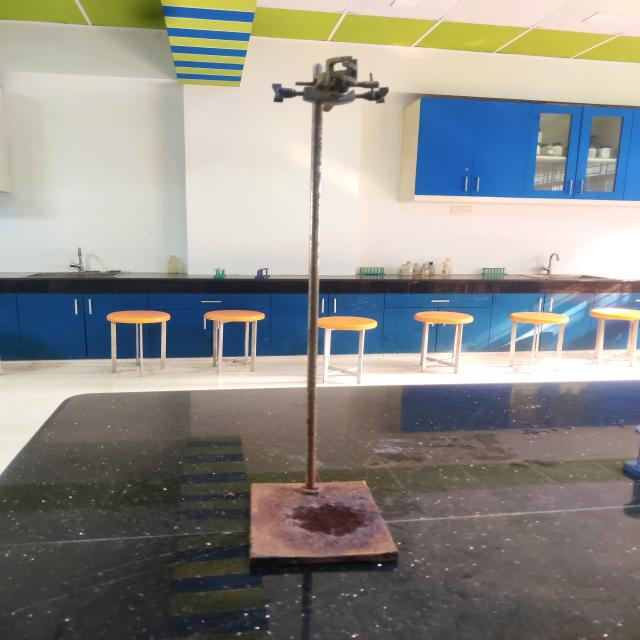Burette_Stands: (205, 32, 456, 600)
